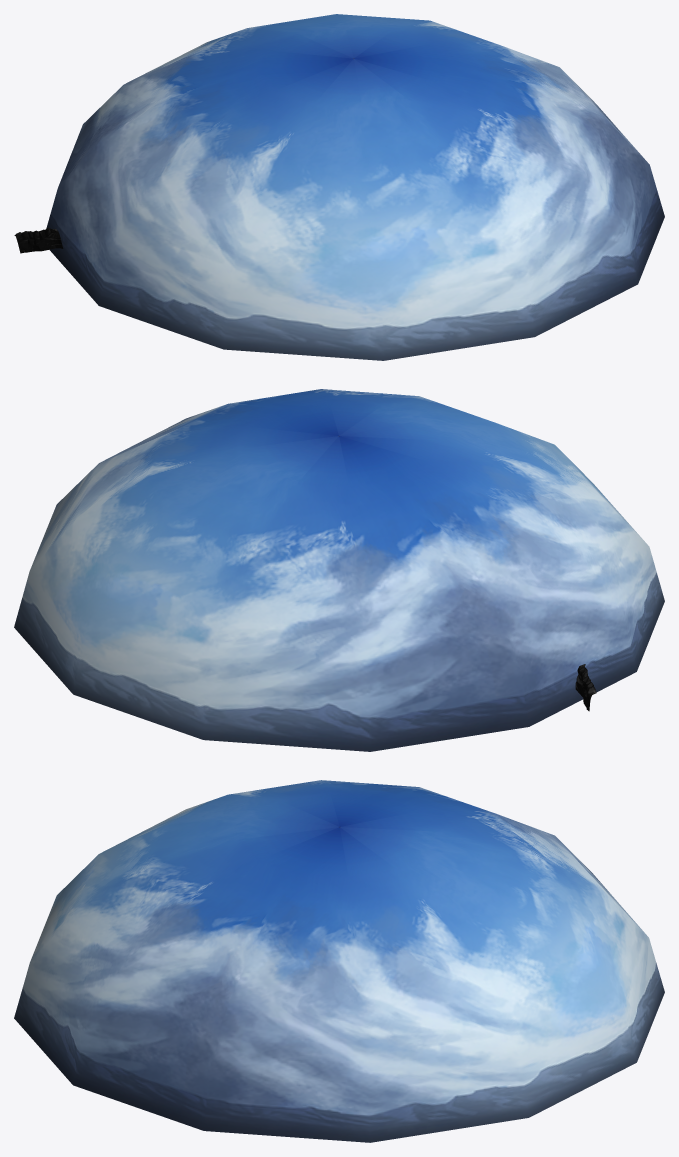
Rendered from env_nev_lava_plains_01_pre.glb.
The picture shows the model from 3 angles, top to bottom: view 1: azimuth 30°, elevation 25°; view 2: azimuth 150°, elevation 25°; view 3: azimuth 270°, elevation 25°; orthographic projection. The views are drawn at different scales.
Parts seen in each view (by area): view 1: skybox_01_mesh (1), sul_rockwall_02_mesh (4); view 2: skybox_01_mesh (1), sul_rockwall_02_mesh (4); view 3: skybox_01_mesh (1).
Part boxes in pixels (bbox=[...]): skybox_01_mesh (1): bbox=[46, 14, 664, 360]; sul_rockwall_02_mesh (4): bbox=[14, 227, 63, 253]; skybox_01_mesh (1): bbox=[14, 389, 664, 751]; sul_rockwall_02_mesh (4): bbox=[575, 664, 596, 711]; skybox_01_mesh (1): bbox=[14, 780, 664, 1142].
Bounding box in the file's own units: 314 × 90.93 × 301.
11 materials, 11 textured.
